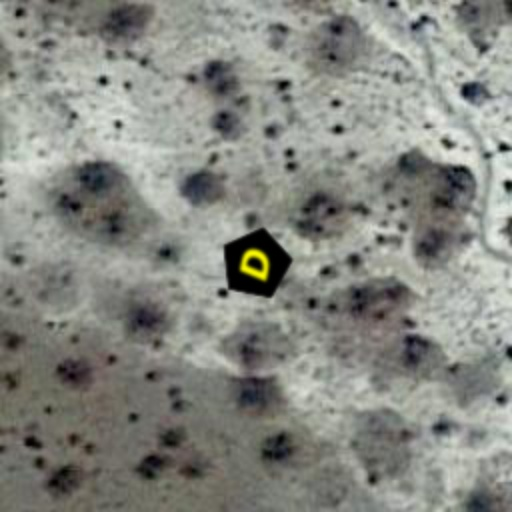pentagon: (210, 218, 302, 310)
